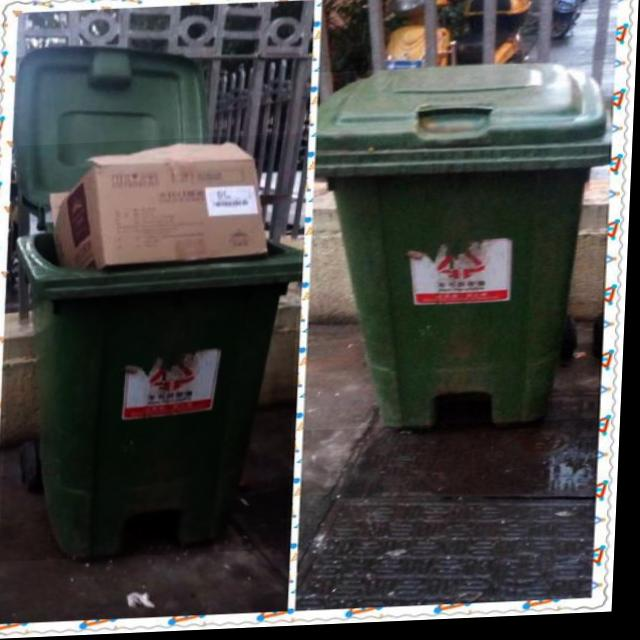garbage_bin: (307, 65, 614, 434)
overflow: (4, 136, 306, 562)
